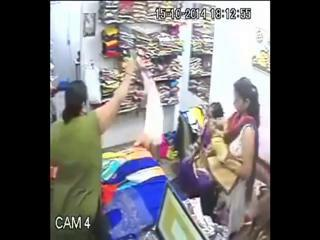Normal: (49, 54, 138, 240), (204, 76, 260, 237)
